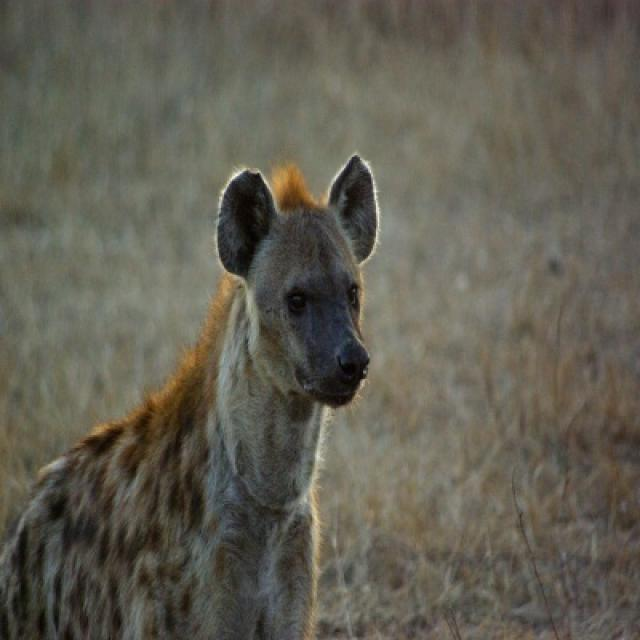hyena: (0, 155, 381, 638)
